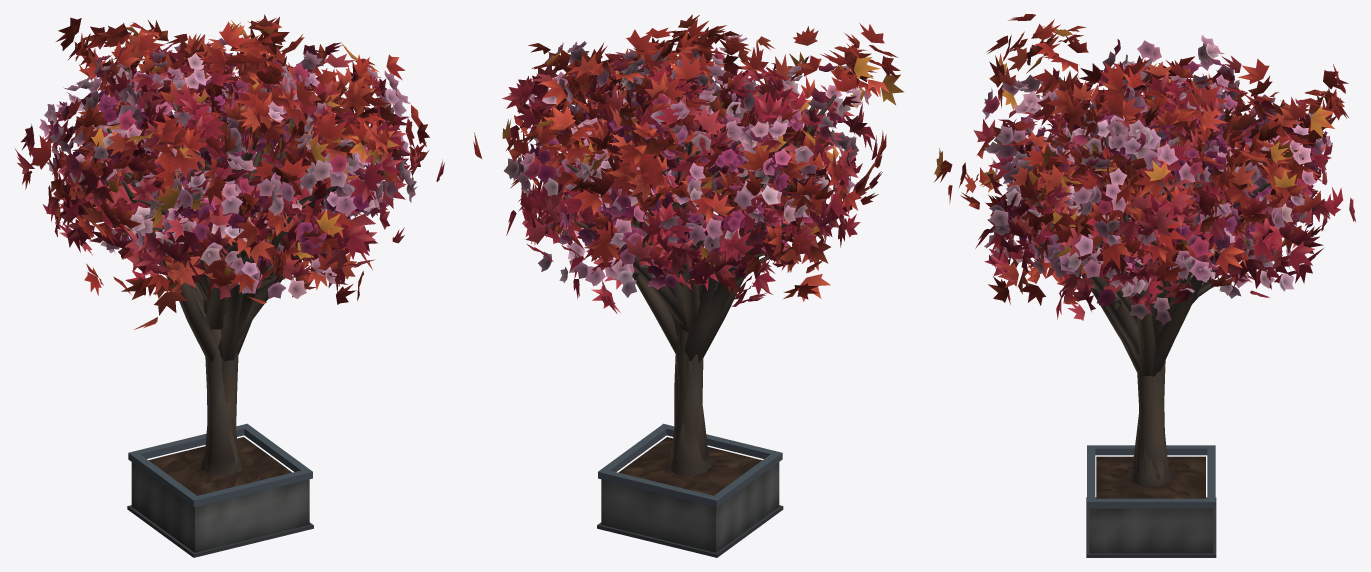
File: trees317.glb
The picture shows the model from 3 angles, left to right: view 1: azimuth 30°, elevation 25°; view 2: azimuth 150°, elevation 25°; view 3: azimuth 270°, elevation 25°; orthographic projection. The views are drawn at different scales.
Parts seen in each view (by area): view 1: ember-t317-leaf, maple-t317-leaf, sakura-t317-leaf, ember-t317-stone, plum-t317-leaf, ember-t317-steel, maple-t317-bark, ember-t317-bark, sakura-t317-bark, maple-t317-stone, sakura-t317-stone, plum-t317-bark (+1 smaller); view 2: ember-t317-leaf, maple-t317-leaf, sakura-t317-leaf, ember-t317-stone, plum-t317-leaf, maple-t317-bark, ember-t317-steel, sakura-t317-bark, plum-t317-bark, ember-t317-bark, maple-t317-stone, plum-t317-stone (+1 smaller); view 3: ember-t317-leaf, maple-t317-leaf, sakura-t317-leaf, ember-t317-stone, plum-t317-leaf, sakura-t317-bark, ember-t317-steel, ember-t317-bark, maple-t317-bark, plum-t317-bark, plum-t317-stone, maple-t317-stone (+1 smaller).
Part boxes in pixels (x1,y1,x2,y2): ember-t317-leaf: (22, 14, 429, 329); maple-t317-leaf: (15, 41, 444, 299); sakura-t317-leaf: (39, 38, 417, 299); ember-t317-stone: (127, 437, 313, 557); plum-t317-leaf: (49, 56, 371, 268); ember-t317-steel: (128, 423, 312, 507); maple-t317-bark: (116, 113, 365, 453); ember-t317-bark: (105, 69, 354, 475); sakura-t317-bark: (107, 96, 346, 470); maple-t317-stone: (161, 442, 309, 535); sakura-t317-stone: (187, 442, 285, 489); plum-t317-bark: (116, 144, 322, 473); ember-t317-leaf: (473, 14, 904, 301); maple-t317-leaf: (502, 52, 882, 313); sakura-t317-leaf: (504, 34, 871, 297); ember-t317-stone: (597, 437, 783, 557); plum-t317-leaf: (522, 74, 842, 289); maple-t317-bark: (577, 140, 805, 470); ember-t317-steel: (598, 423, 782, 507); sakura-t317-bark: (564, 107, 814, 476); plum-t317-bark: (611, 132, 764, 465); ember-t317-bark: (559, 77, 836, 468); maple-t317-stone: (601, 440, 757, 513); plum-t317-stone: (634, 447, 762, 491); ember-t317-leaf: (934, 14, 1348, 305); maple-t317-leaf: (973, 55, 1356, 320); sakura-t317-leaf: (982, 35, 1332, 324); ember-t317-stone: (1086, 456, 1216, 557); plum-t317-leaf: (996, 57, 1327, 306); sakura-t317-bark: (1026, 127, 1260, 484); ember-t317-steel: (1087, 445, 1215, 508); ember-t317-bark: (1011, 76, 1283, 483); maple-t317-bark: (1085, 120, 1255, 481); plum-t317-bark: (1050, 145, 1245, 486); plum-t317-stone: (1096, 456, 1205, 498); maple-t317-stone: (1096, 456, 1190, 498).
Bounding box in the file's own units: 3.48 × 4.31 × 3.52.
